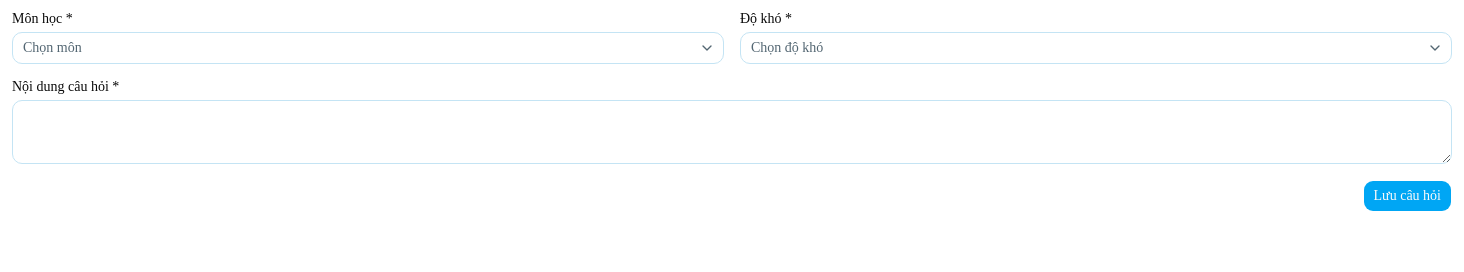
QuestionForm › renders subjects + difficulties and validates noiDung min length
Submit empty form — should NOT call onSubmit (validation errors)
Click the button "Lưu câu hỏi" at (1407, 196), box 1362,180 -> 1452,212
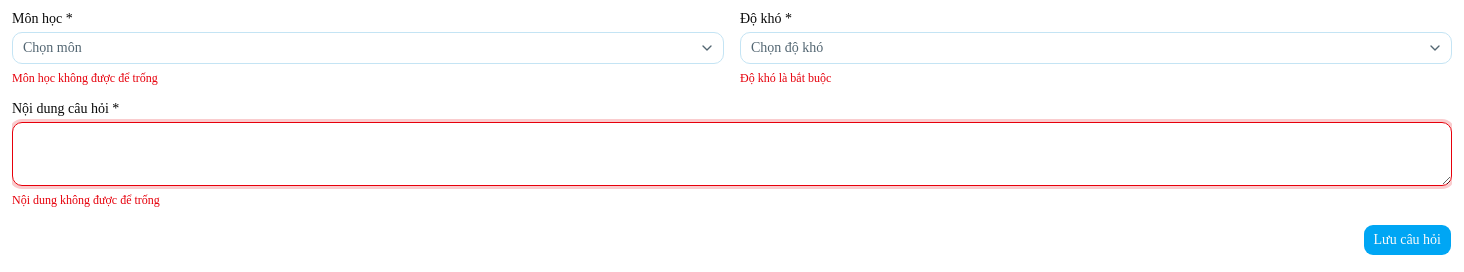
Now the message "Môn học không được để trống" is shown, box 12,71 -> 158,85
